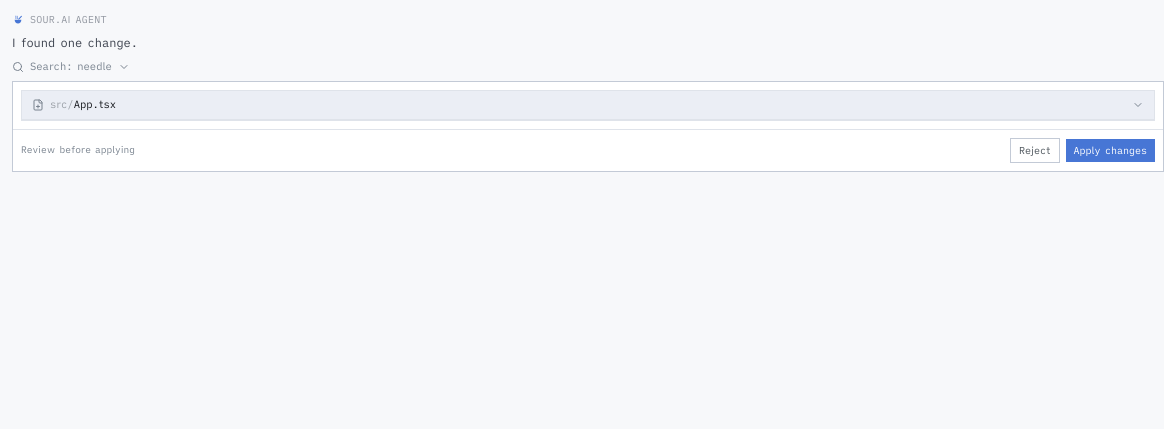
it: AgentMessage › presents tool results and file operations as independently expandable items
Expected: the text "I found one change." is shown, [12,35,138,50]
Expected: the text "1 match in 1 file" is not shown
Click the button "Search: needle". click: (71, 67)
box: [12,59,130,75]
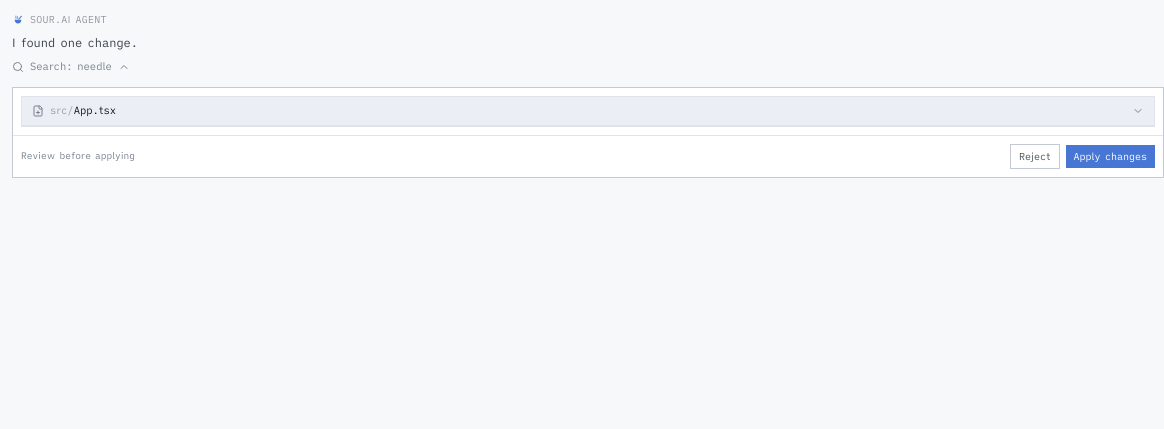
Click the button "src/App.tsx". click: (95, 110)
box: [22,97,1154,126]
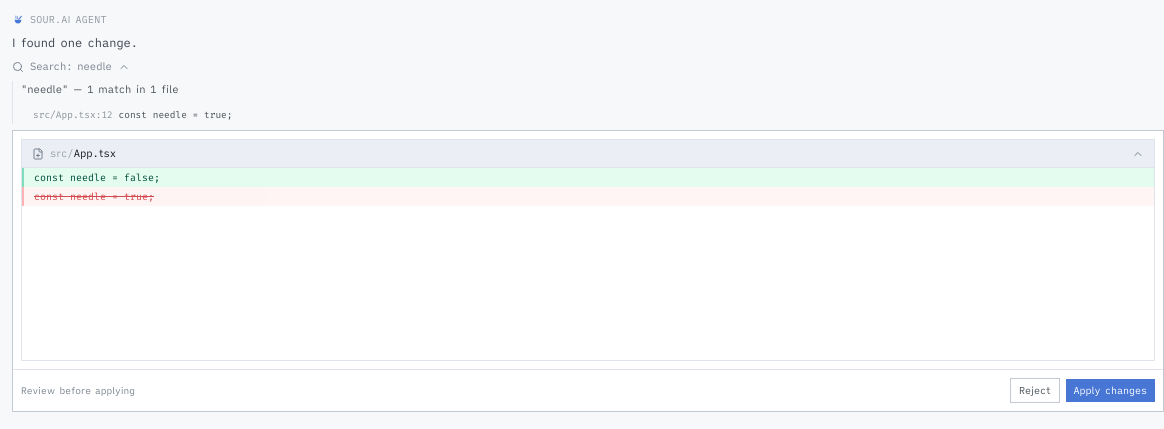
Now the text "const needle = false;" is shown, box [24,168,1154,187]
